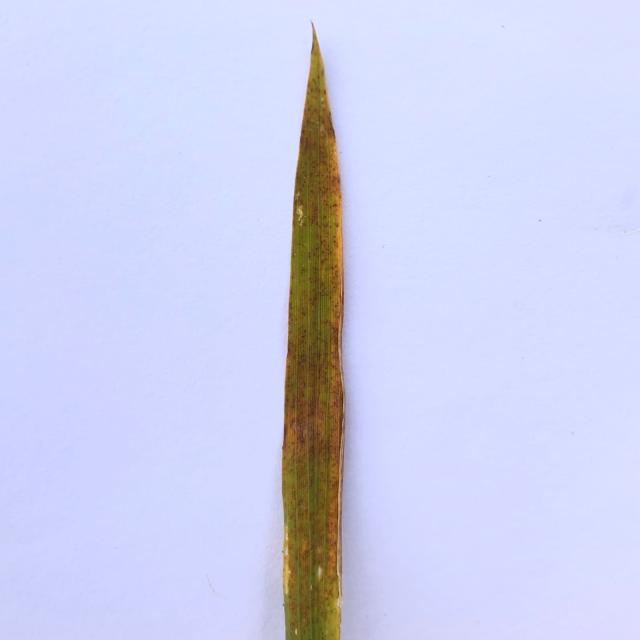tungro: (312, 22, 341, 640)
